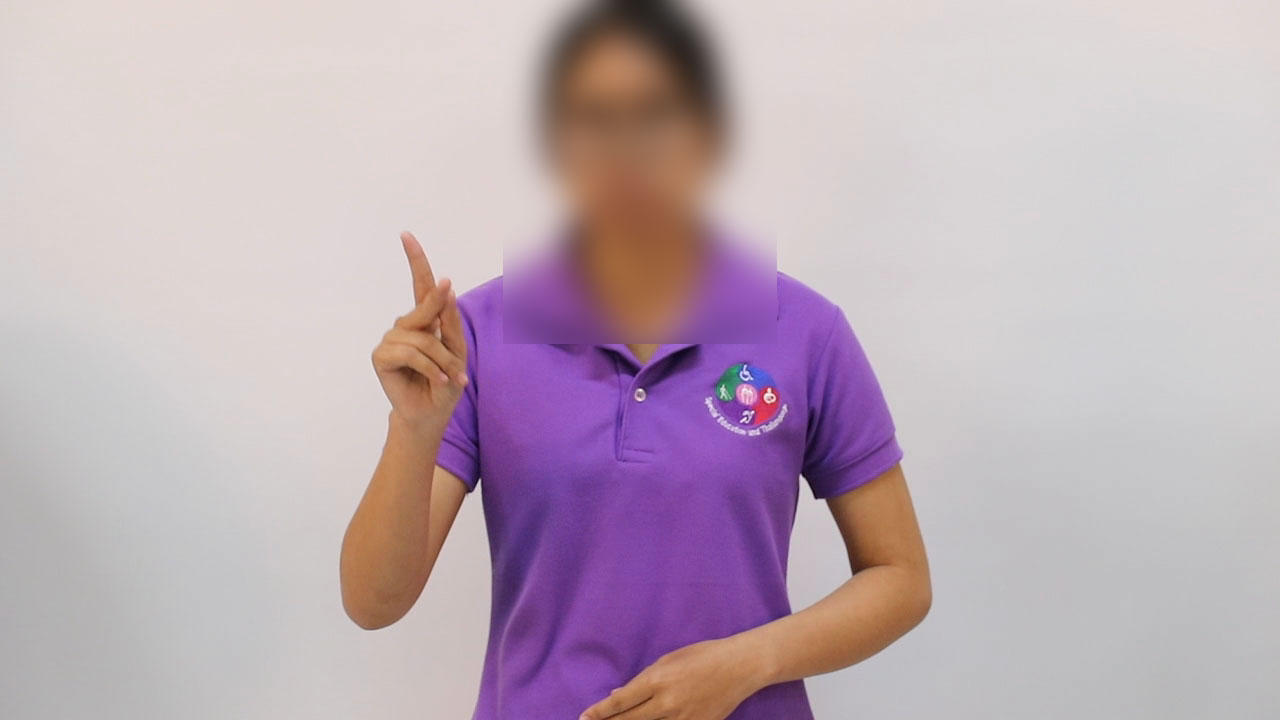ko: (364, 229, 480, 428)
